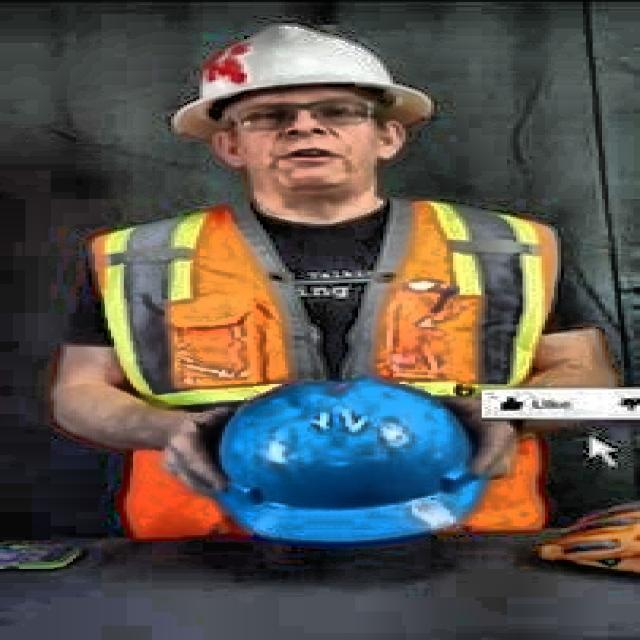face: (233, 90, 379, 190)
helmet: (199, 377, 495, 546), (168, 22, 434, 148)
